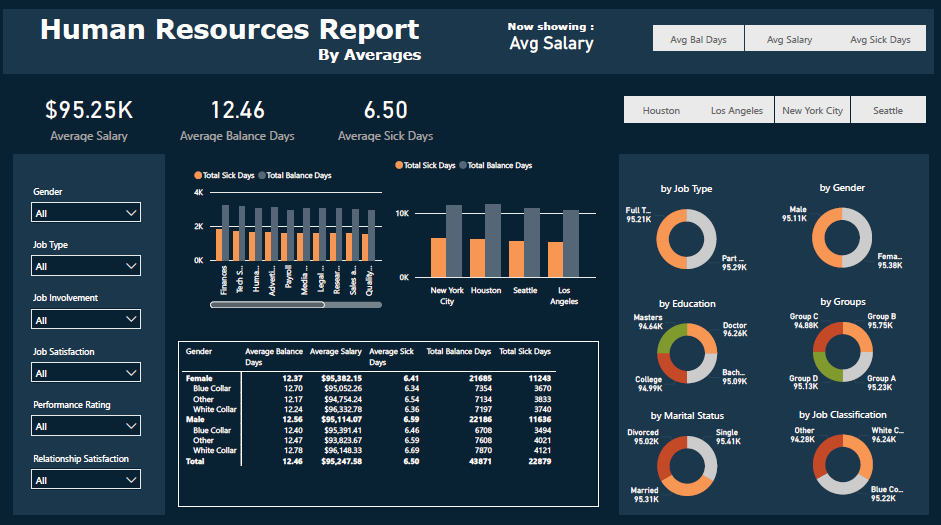

The dashboard page shown, as its layout file describes it:
{"tool":"powerbi","page":{"name":"Average Report","canvas":[1280,720],"ordinal":1},"visuals":[{"type":"basicShape","box":[840,208,424,496],"z":0},{"type":"basicShape","box":[24,208,208,496],"z":2000},{"type":"card","fields":{"Values":["All Measures.Average Salary"]},"box":[40,120,176,80],"z":3000},{"type":"card","fields":{"Values":["All Measures.Average Balance Days"]},"box":[240,120,176,80],"z":4000},{"type":"card","fields":{"Values":["All Measures.Average Sick Days"]},"box":[440,120,176,80],"z":5000},{"type":"pivotTable","fields":{"Rows":["Human Resources.Gender","Human Resources.Job Classification"],"Values":["All Measures.Average Balance Days","All Measures.Average Salary","All Measures.Average Sick Days","All Measures.Total Balance Days","All Measures.Total Sick Days"]},"box":[248,464,568,224],"z":6000},{"type":"basicShape","box":[0,16,1280,88],"z":7000},{"type":"textbox","box":[56,16,544,80],"z":8000},{"type":"textbox","box":[688,24.9,152,32],"z":9000},{"type":"card","fields":{"Values":["All Measures.Measure Selection Avg"]},"box":[664,40.9,176,40],"z":10000},{"type":"donutChart","title":"by Gender","fields":{"Category":["Human Resources.Gender"],"Y":["All Measures.Measure Logic Avg"]},"box":[1056,248,176,136],"z":11000},{"type":"donutChart","title":"by Groups","fields":{"Category":["Human Resources.Groups"],"Y":["All Measures.Measure Logic Avg"]},"box":[1056.9,401.8,176,136],"z":12000},{"type":"donutChart","title":"by Job Classification","fields":{"Category":["Human Resources.Job Classification"],"Y":["All Measures.Measure Logic Avg"]},"box":[1056.9,553.8,176,136],"z":13000},{"type":"donutChart","title":"by Education","fields":{"Category":["Human Resources.Education"],"Y":["All Measures.Measure Logic Avg"]},"box":[847.3,403.8,176,136],"z":14000},{"type":"donutChart","title":"by Job Type","fields":{"Category":["Human Resources.Job Type"],"Y":["All Measures.Measure Logic Avg"]},"box":[846.4,250,176,136],"z":15000},{"type":"donutChart","title":"by Marital Status","fields":{"Category":["Human Resources.Marital Status"],"Y":["All Measures.Measure Logic Avg"]},"box":[847.3,555.8,176,136],"z":16000},{"type":"clusteredColumnChart","fields":{"Y":["All Measures.Total Sick Days","All Measures.Total Balance Days"],"Category":["Human Resources.Departmets"]},"box":[264.5,222.1,263.1,202.3],"z":17000},{"type":"clusteredColumnChart","fields":{"Y":["All Measures.Total Sick Days","All Measures.Total Balance Days"],"Category":["Human Resources.Business Unit"]},"box":[536.1,207.9,280.1,216.4],"z":18000},{"type":"slicer","fields":{"Values":["Human Resources.Gender"]},"box":[40.3,249.1,168,64],"z":19000},{"type":"slicer","fields":{"Values":["Human Resources.Job Type"]},"box":[40.3,321.1,168,64],"z":20000},{"type":"slicer","fields":{"Values":["Human Resources.Job Involvement"]},"box":[40.3,393.1,168,64],"z":21000},{"type":"slicer","fields":{"Values":["Human Resources.Job Satisfaction"]},"box":[40.3,465.1,168,64],"z":22000},{"type":"slicer","fields":{"Values":["Human Resources.Performance Rating"]},"box":[40.3,537.1,168,64],"z":23000},{"type":"slicer","fields":{"Values":["Human Resources.Relationship Satisfaction"]},"box":[40.3,609.1,168,64],"z":24000},{"type":"slicer","fields":{"Values":["Human Resources.Business Unit"]},"box":[824,128,456,48],"z":25000},{"type":"slicer","fields":{"Values":["Avg Metrics.Measure"]},"box":[864,32,416,48],"z":26000}]}

Visuals, with their boxes in screenshot pixels (x1, y1, x2, y2), scaled from the page's 1280x720 canvas onto the 941x525 screenshot:
basicShape: <box>618,152,929,513</box>
basicShape: <box>18,152,171,513</box>
card - All Measures.Average Salary: <box>29,88,159,146</box>
card - All Measures.Average Balance Days: <box>176,88,306,146</box>
card - All Measures.Average Sick Days: <box>323,88,453,146</box>
pivotTable - Human Resources.Gender x Human Resources.Job Classification: <box>182,338,600,502</box>
basicShape: <box>0,12,940,76</box>
textbox: <box>41,12,441,70</box>
textbox: <box>506,18,618,41</box>
card - All Measures.Measure Selection Avg: <box>488,30,618,59</box>
"by Gender" donutChart: <box>776,181,906,280</box>
"by Groups" donutChart: <box>777,293,906,392</box>
"by Job Classification" donutChart: <box>777,404,906,503</box>
"by Education" donutChart: <box>623,294,752,394</box>
"by Job Type" donutChart: <box>622,182,752,281</box>
"by Marital Status" donutChart: <box>623,405,752,504</box>
clusteredColumnChart - All Measures.Total Sick Days x All Measures.Total Balance Days: <box>194,162,388,309</box>
clusteredColumnChart - All Measures.Total Sick Days x All Measures.Total Balance Days: <box>394,152,600,309</box>
slicer - Human Resources.Gender: <box>30,182,153,228</box>
slicer - Human Resources.Job Type: <box>30,234,153,281</box>
slicer - Human Resources.Job Involvement: <box>30,287,153,333</box>
slicer - Human Resources.Job Satisfaction: <box>30,339,153,386</box>
slicer - Human Resources.Performance Rating: <box>30,392,153,438</box>
slicer - Human Resources.Relationship Satisfaction: <box>30,444,153,491</box>
slicer - Human Resources.Business Unit: <box>606,93,940,128</box>
slicer - Avg Metrics.Measure: <box>635,23,940,58</box>
